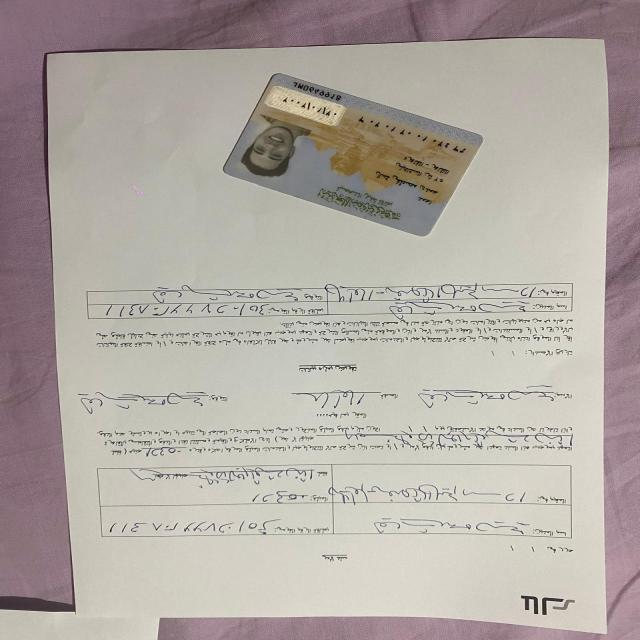id_card: (215, 67, 491, 242)
